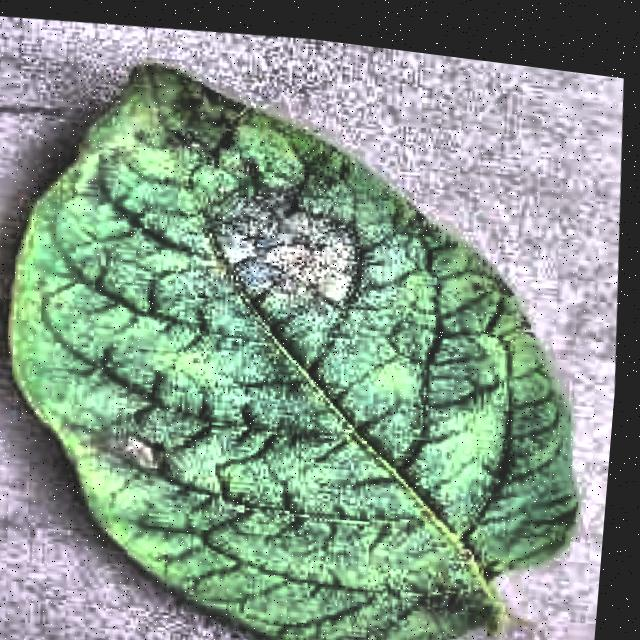Potato_leaf_late_blight: (0, 44, 604, 640)
